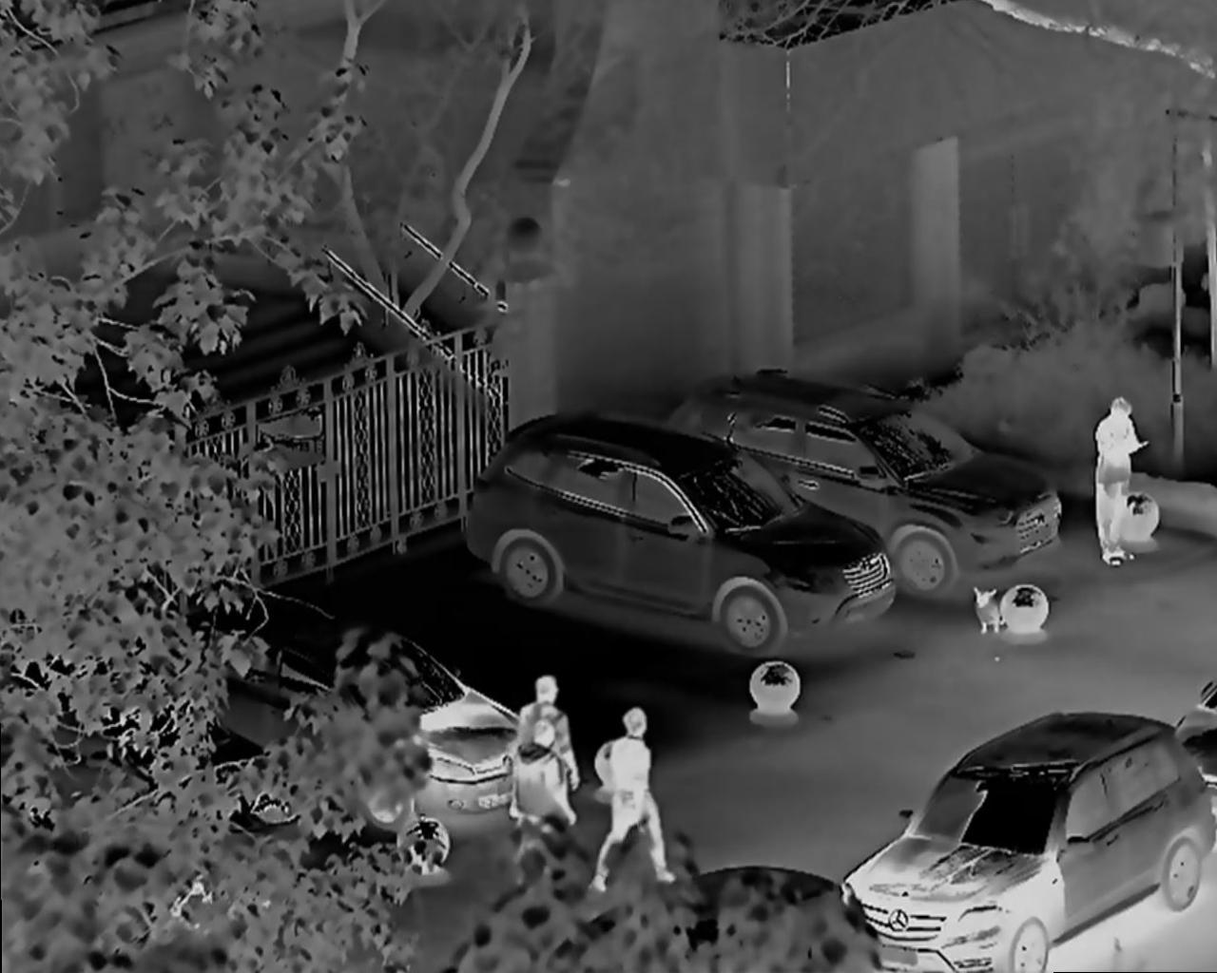person: (595, 713, 681, 895), (1091, 397, 1150, 581), (513, 680, 569, 790), (521, 715, 570, 831)
